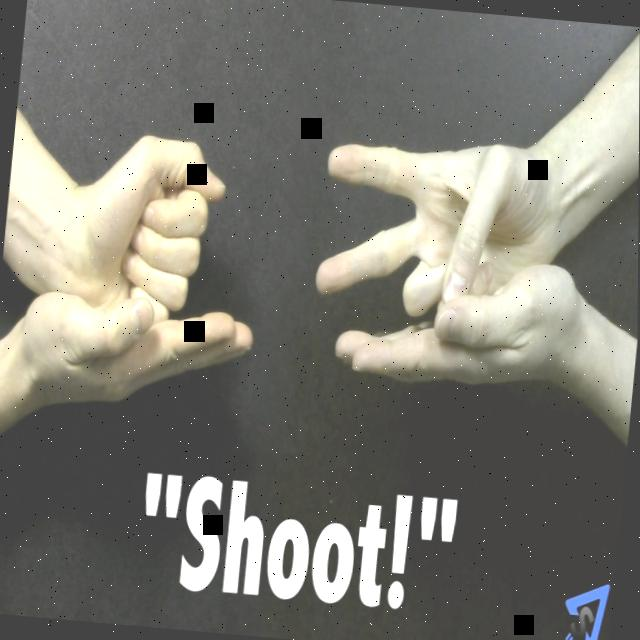Rock: (65, 130, 232, 331)
Scissors: (311, 126, 567, 341)
